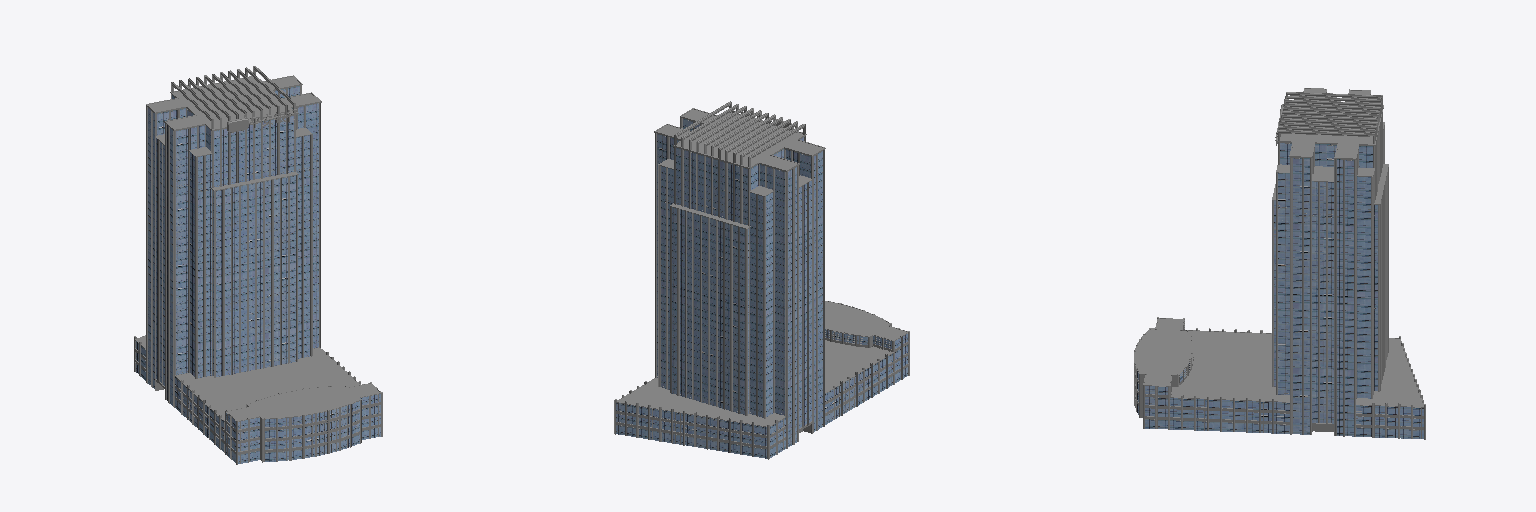
3 views of the same model, side by side, from view 1: azimuth 30°, elevation 25°; view 2: azimuth 150°, elevation 25°; view 3: azimuth 270°, elevation 25° (orthographic).
Visible parts, largest first — view 1: JZ_JX_18; view 2: JZ_JX_18; view 3: JZ_JX_18.
Boxes of the visible parts, x1,y1,x2,y2 form: JZ_JX_18: [134, 66, 382, 464]; JZ_JX_18: [614, 101, 909, 459]; JZ_JX_18: [1134, 88, 1425, 439].
Bounding box in the file's own units: 5859 × 10002 × 9188.
Materials: 7 (1 with a texture image).